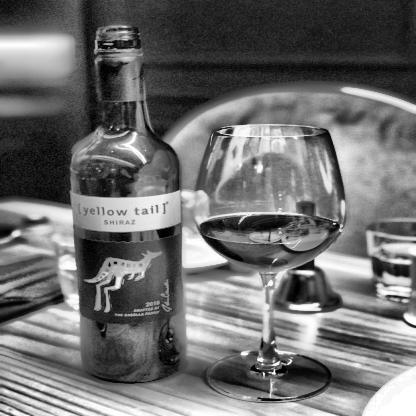yellowtail: (72, 193, 184, 322)
